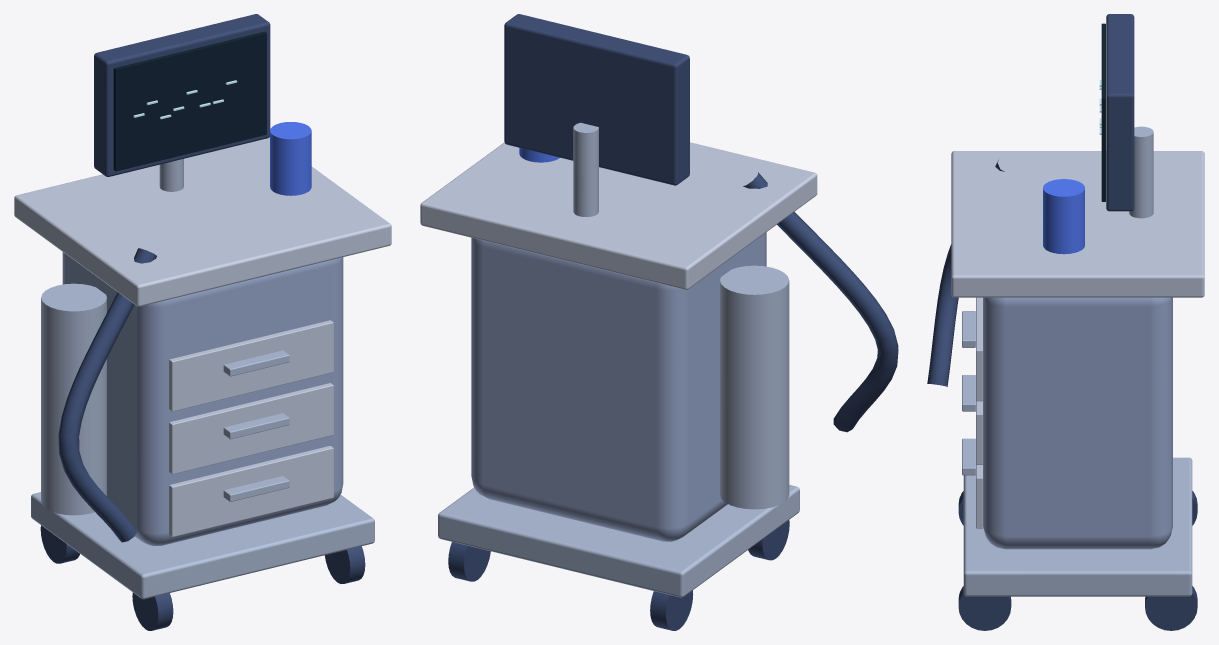
The model's file is anesthesia.glb.
The picture shows the model from 3 angles, left to right: view 1: azimuth 30°, elevation 25°; view 2: azimuth 150°, elevation 25°; view 3: azimuth 270°, elevation 25°; orthographic projection. The views are drawn at different scales.
Visible parts, largest first — view 1: worktop, machine body, drawer (×3), display glass, base, gas cylinder, display frame, breathing hose, caster (×3), vaporizer, handle (×3), monitor arm; view 2: machine body, worktop, display frame, base, gas cylinder, breathing hose, caster (×3), monitor arm; view 3: machine body, worktop, base, display frame, caster (×2), vaporizer, breathing hose, monitor arm, drawer (×3), handle (×3), display glass.
Boxes of the visible parts, bbox=[...] form: worktop: bbox=[14, 137, 391, 306]; machine body: bbox=[62, 252, 343, 545]; drawer (×3): bbox=[169, 320, 333, 536]; display glass: bbox=[113, 31, 266, 171]; base: bbox=[31, 492, 374, 599]; gas cylinder: bbox=[41, 283, 106, 515]; display frame: bbox=[94, 14, 270, 176]; breathing hose: bbox=[58, 248, 156, 542]; caster (×3): bbox=[40, 525, 365, 630]; vaporizer: bbox=[270, 122, 311, 195]; handle (×3): bbox=[223, 350, 289, 501]; monitor arm: bbox=[159, 159, 183, 191]; machine body: bbox=[471, 232, 766, 541]; worktop: bbox=[420, 142, 817, 289]; display frame: bbox=[504, 14, 689, 185]; base: bbox=[438, 485, 799, 597]; gas cylinder: bbox=[720, 265, 789, 509]; breathing hose: bbox=[743, 172, 898, 432]; caster (×3): bbox=[448, 520, 789, 630]; monitor arm: bbox=[573, 122, 598, 216]; machine body: bbox=[983, 297, 1172, 549]; worktop: bbox=[951, 151, 1204, 297]; base: bbox=[963, 457, 1192, 596]; display frame: bbox=[1106, 14, 1134, 211]; caster (×2): bbox=[958, 586, 1197, 630]; vaporizer: bbox=[1043, 179, 1084, 254]; breathing hose: bbox=[927, 160, 1004, 386]; monitor arm: bbox=[1129, 126, 1153, 218]; drawer (×3): bbox=[976, 297, 982, 528]; handle (×3): bbox=[962, 311, 975, 475]; display glass: bbox=[1101, 23, 1105, 201].
Bounding box in the file's own units: 1.1 × 1.65 × 0.7888.
